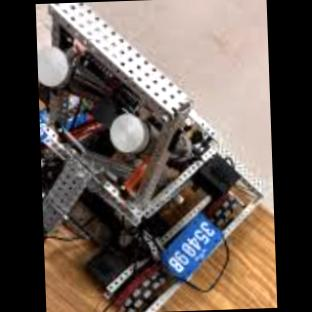Robot: (36, 2, 261, 312)
